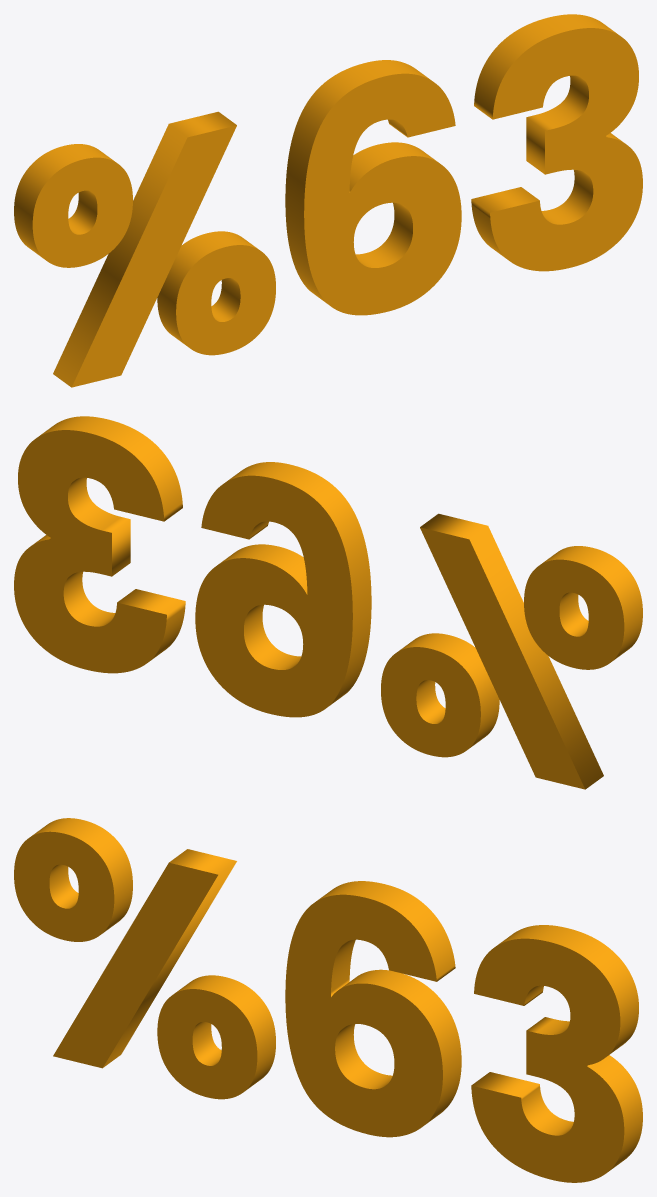
The model's file is yuzdeyazi.gltf.
3 renders of one model, top to bottom at view 1: azimuth 30°, elevation 25°; view 2: azimuth 150°, elevation 25°; view 3: azimuth 330°, elevation 25°, orthographic.
Parts seen in each view (by area): view 1: simsekyazi.001; view 2: simsekyazi.001; view 3: simsekyazi.001.
Part boxes in pixels (x1,y1,x2,y2): simsekyazi.001: [14, 14, 642, 387]; simsekyazi.001: [14, 416, 642, 789]; simsekyazi.001: [14, 818, 642, 1182].
Size of the model in its own units: 0.0572 by 0.0214 by 0.00304.
